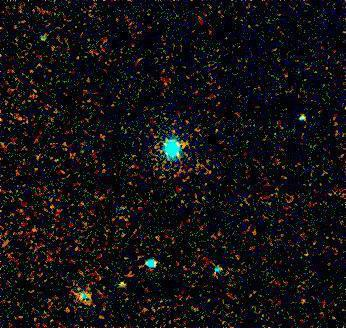star: (30, 24, 60, 54)
